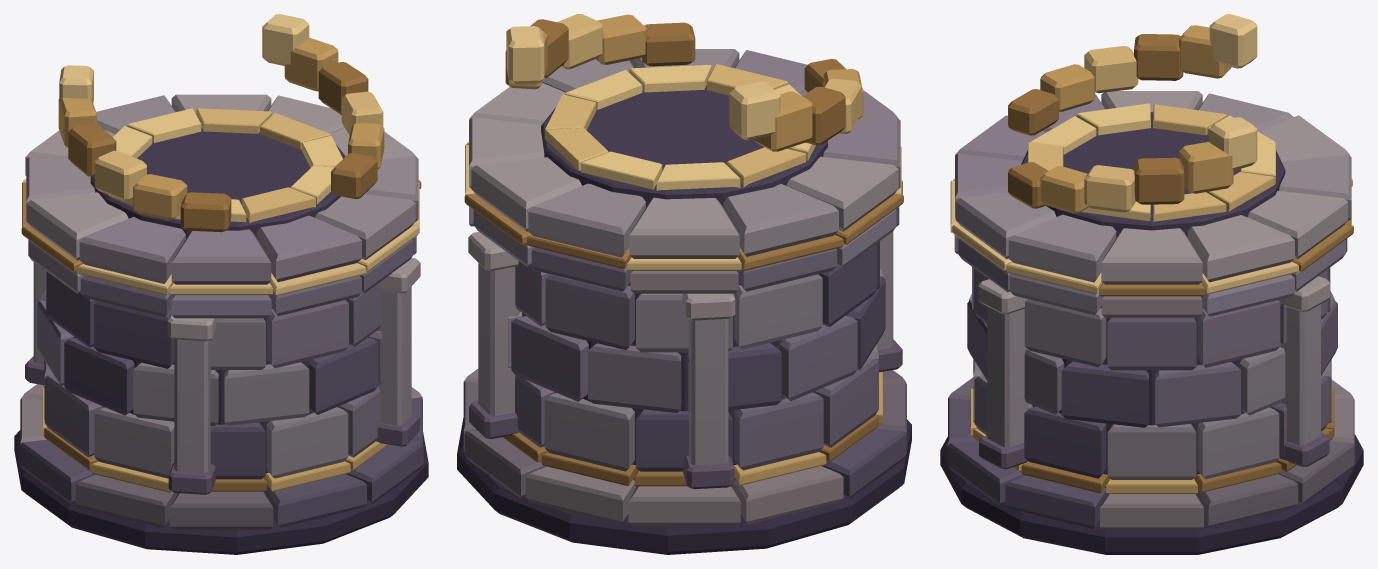
Rendered from citadel-reforged-34.glb.
3 views of the same model, side by side, from view 1: azimuth 30°, elevation 25°; view 2: azimuth 150°, elevation 25°; view 3: azimuth 270°, elevation 25° (orthographic). The views are drawn at different scales.
Visible parts, largest first — view 1: citadel-reforged-34; view 2: citadel-reforged-34; view 3: citadel-reforged-34.
Boxes of the visible parts, x1=… form: citadel-reforged-34: x1=14, y1=14, x2=428, y2=554; citadel-reforged-34: x1=457, y1=14, x2=911, y2=554; citadel-reforged-34: x1=940, y1=14, x2=1363, y2=554.
Bounding box in the file's own units: 67.47 × 71.6 × 69.2.
